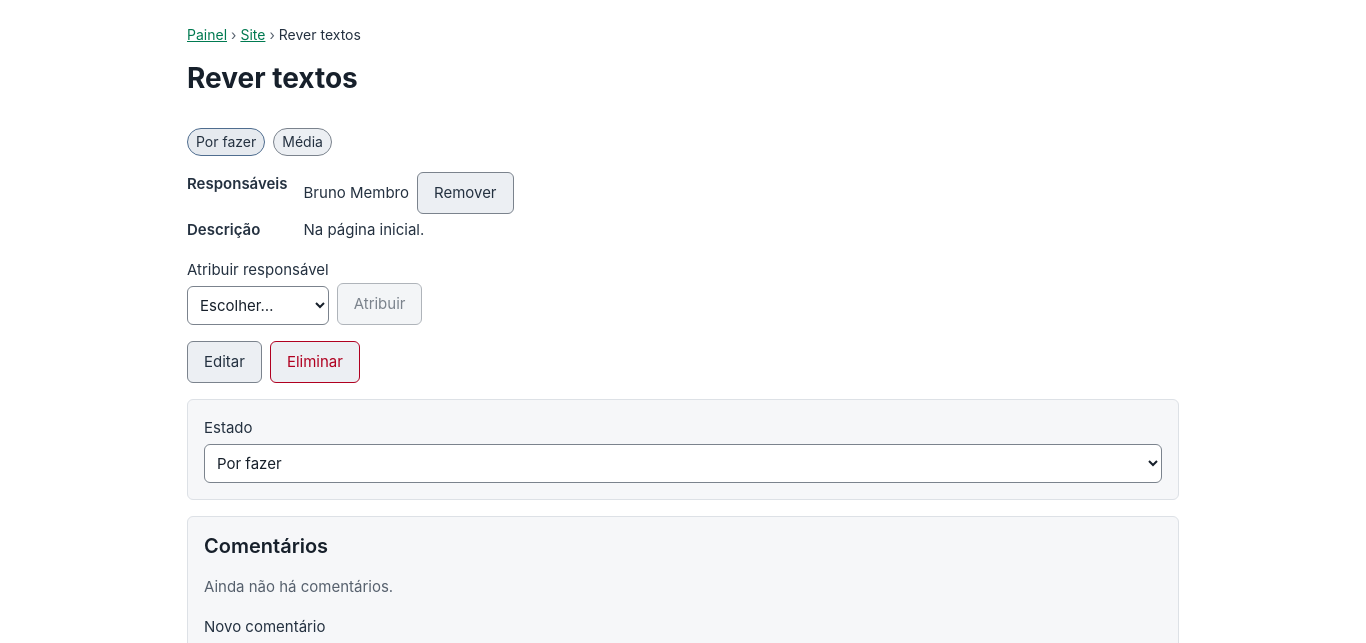
Test case: TaskDetailView (US19, US06, US07, US22) › o Gestor remove um responsável; sem nenhum, mostra "Sem responsável"
Click the button with aria-label "Remover Bruno Membro dos responsáveis". click: point(465, 193)
box: [417,172,514,214]
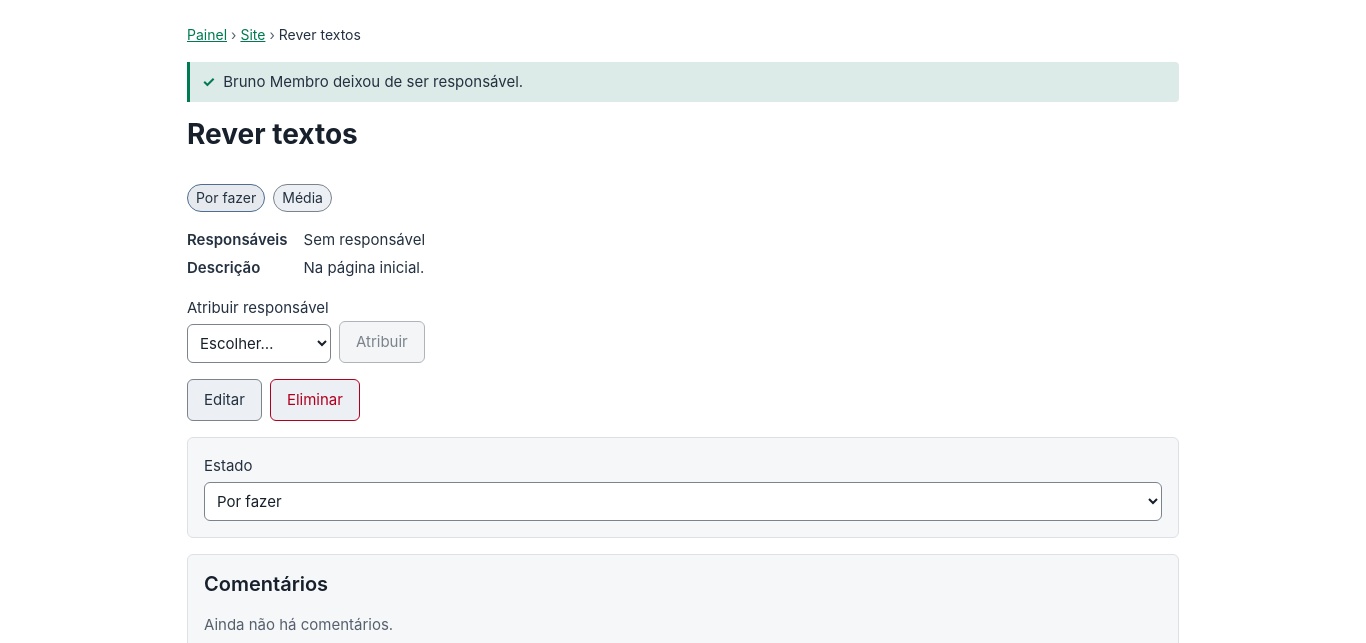
Check: the text "Sem responsável" is shown, box [304,230,425,249]
Check: the message "Bruno Membro deixou de ser responsável." is shown, box [187,62,1179,102]
